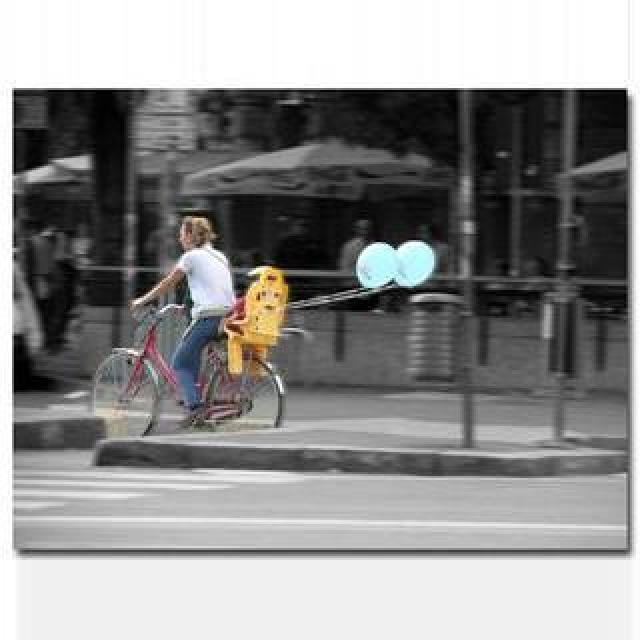MC-Bike: (130, 216, 238, 420), (26, 224, 74, 350), (338, 212, 376, 274)
Person: (90, 300, 290, 436)
